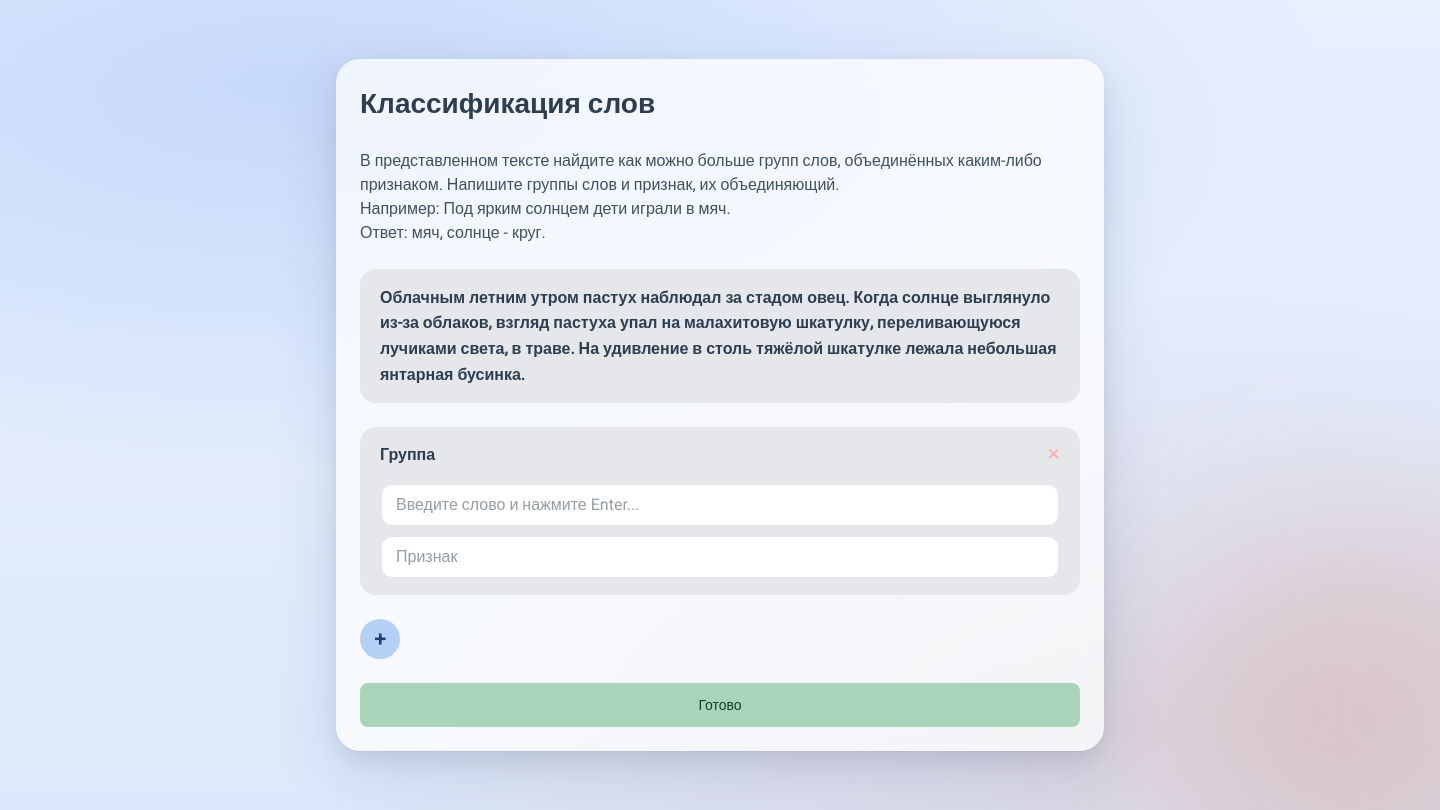
Test: /ai/classification — этап 1 (words) › клик «Готово» без слов — мягкая валидация, fetch не вызывается
Click the button "Готово".
click(720, 705)  # box [360, 683, 1080, 727]
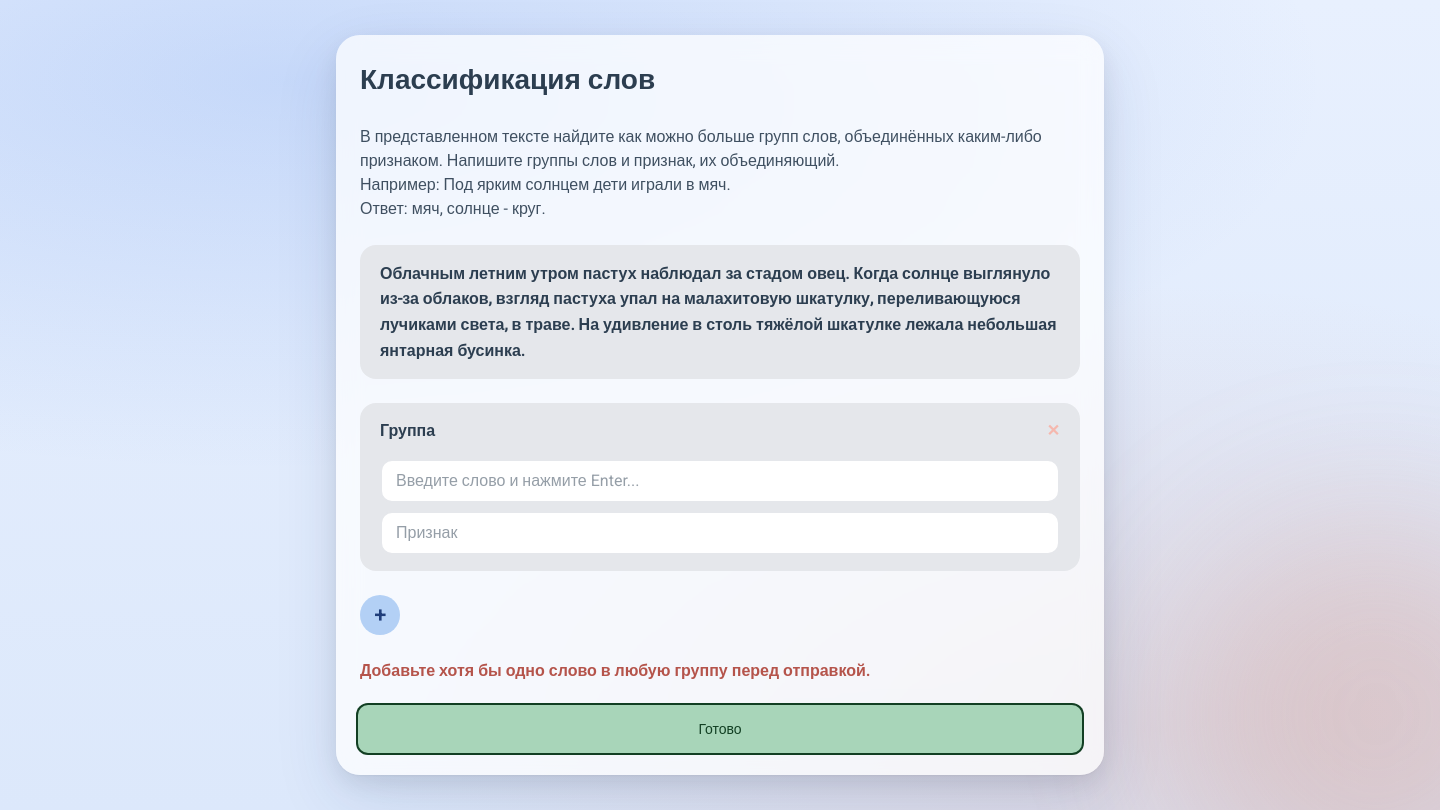
Expected: the message with test id "error" shows "Добавьте хотя бы одно слово", [360, 661, 870, 680]
